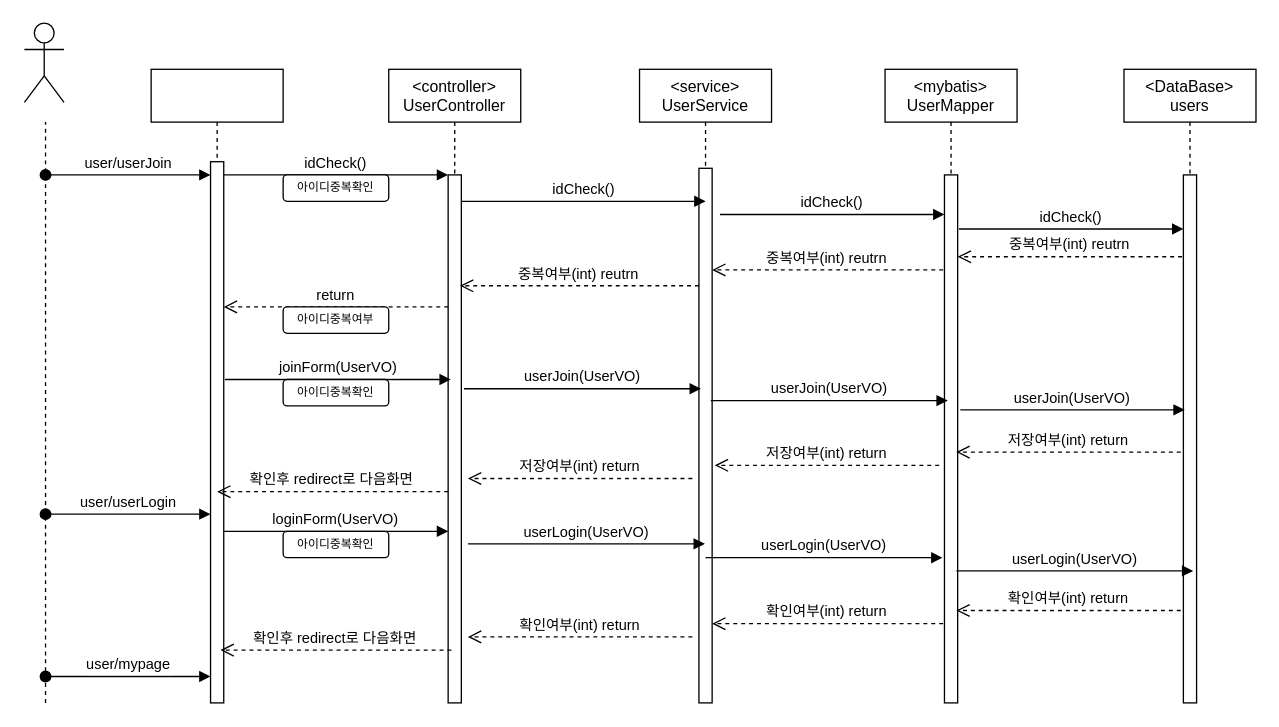
Some shapes in this 1279 by 727 pixel diagram are drawn without their labels. The box of each missing label's shape, as (x1, y1, x2, y2) in pixels:
dispatcherServlet: (150, 68, 283, 703)
USER: (23, 22, 64, 102)
